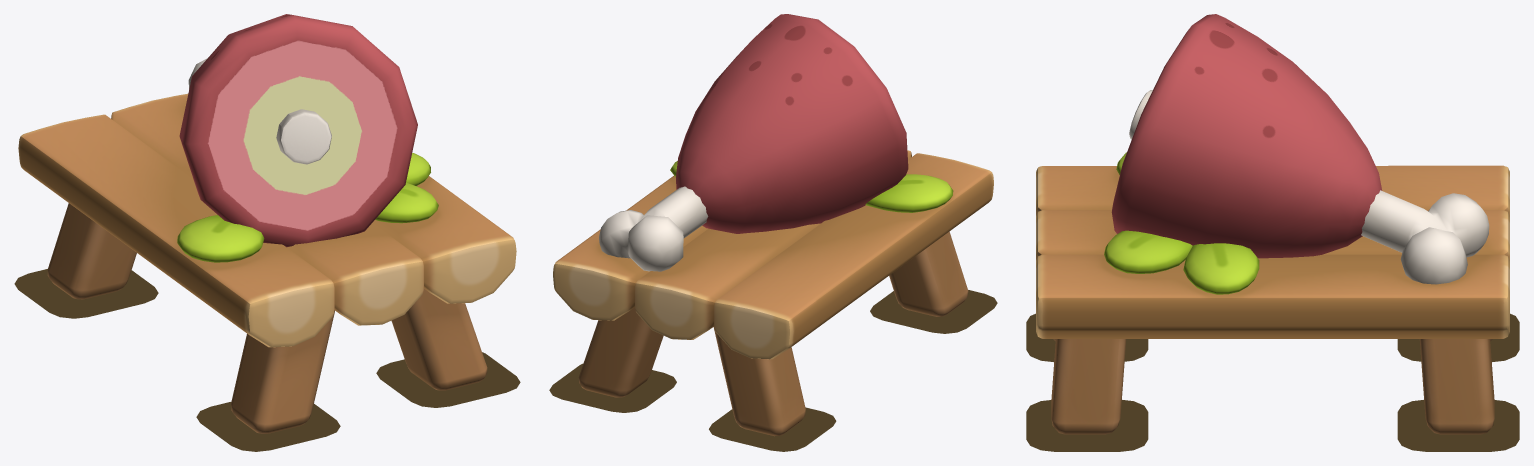
File: MeatTable.fbx
The picture shows the model from 3 angles, left to right: view 1: azimuth 30°, elevation 25°; view 2: azimuth 150°, elevation 25°; view 3: azimuth 270°, elevation 25°; orthographic projection. The views are drawn at different scales.
Visible parts, largest first — view 1: polySurface13, polySurface18, polySurface11; view 2: polySurface13, polySurface18, polySurface11; view 3: polySurface13, polySurface18, polySurface11.
Part boxes in pixels (box(x1,y1,x2,y2)): polySurface13: box(18, 93, 516, 433); polySurface18: box(177, 14, 438, 262); polySurface11: box(14, 269, 520, 451); polySurface13: box(553, 150, 993, 436); polySurface18: box(599, 14, 953, 271); polySurface11: box(549, 290, 997, 451); polySurface13: box(1036, 165, 1509, 434); polySurface18: box(1104, 14, 1489, 294); polySurface11: box(1026, 313, 1519, 451).
Bounding box in the file's own units: 213 × 246 × 312.
